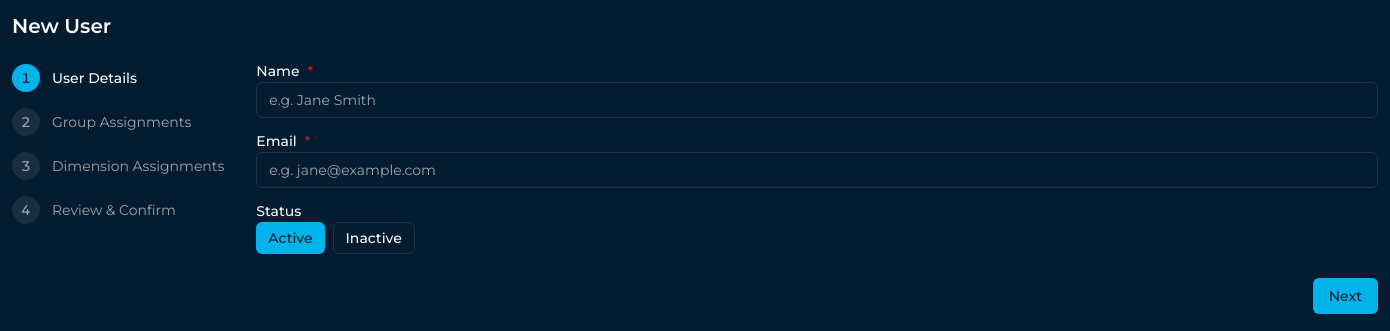
Test: NewUserPage › "Next" on step 1 with valid name + email advances to step 2
Type "Jane Smith" into the field labelled "Name *" at (817, 100), box [256,82,1378,118]
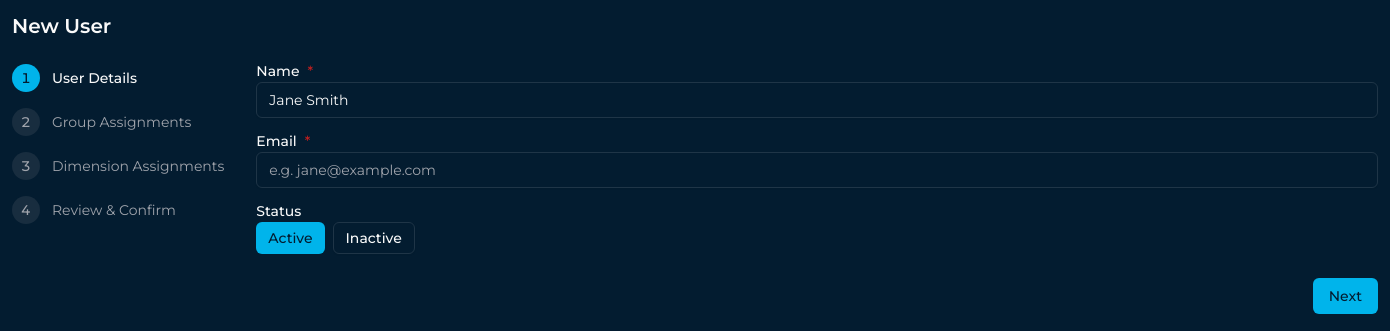
Type "jane@example.com" into the field labelled "Email *" at (817, 170), box [256,152,1378,188]
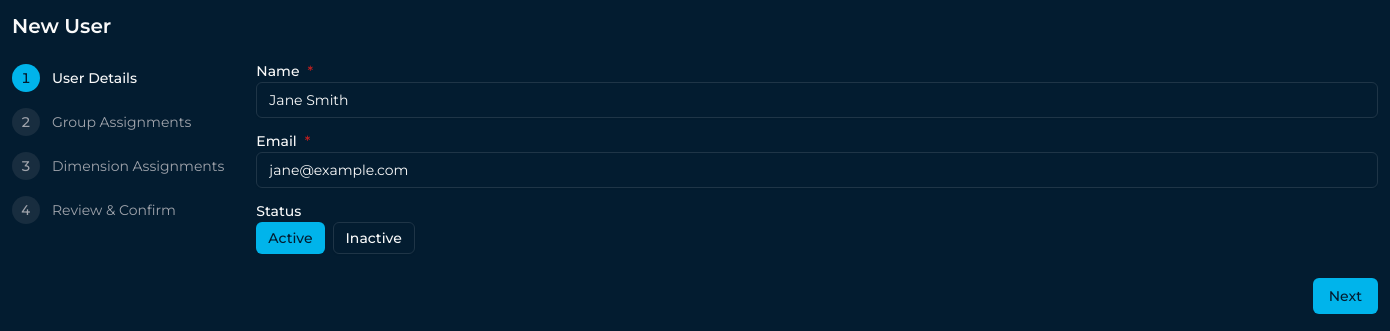
Click the button "Next" at (1345, 296), box [1313,278,1378,314]
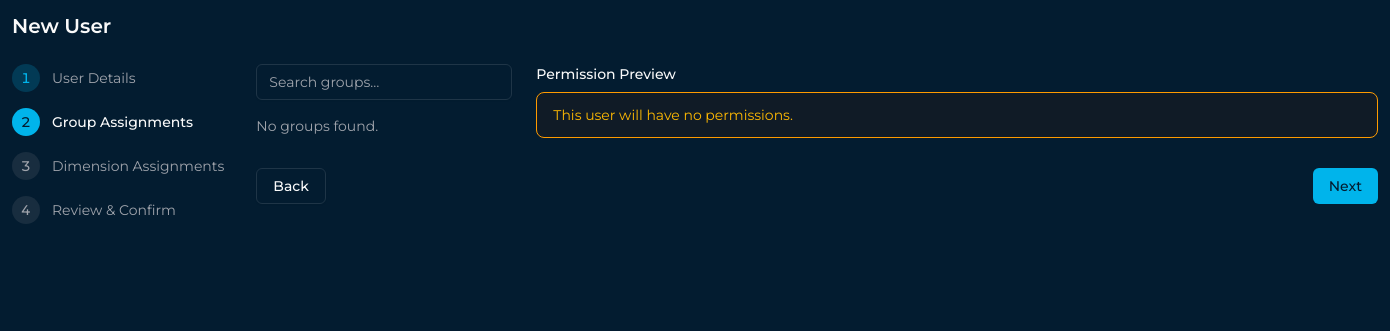
Now the field with placeholder "Search groups…" is shown, box [256,64,512,100]
